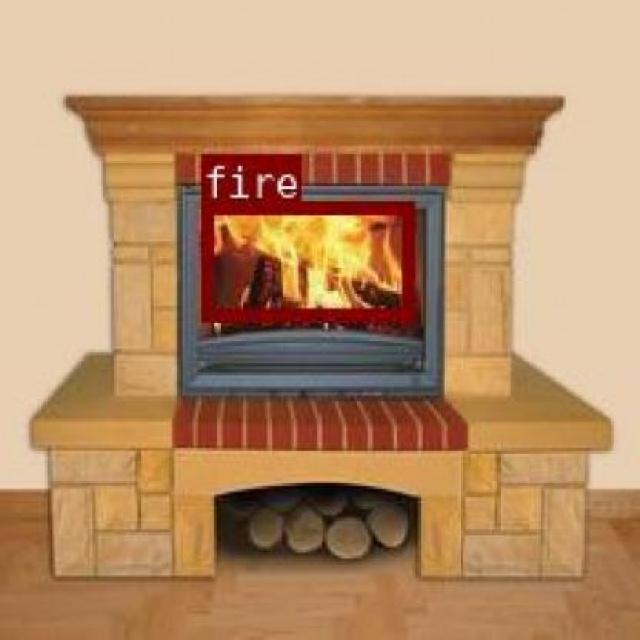Fire: (198, 199, 412, 318)
